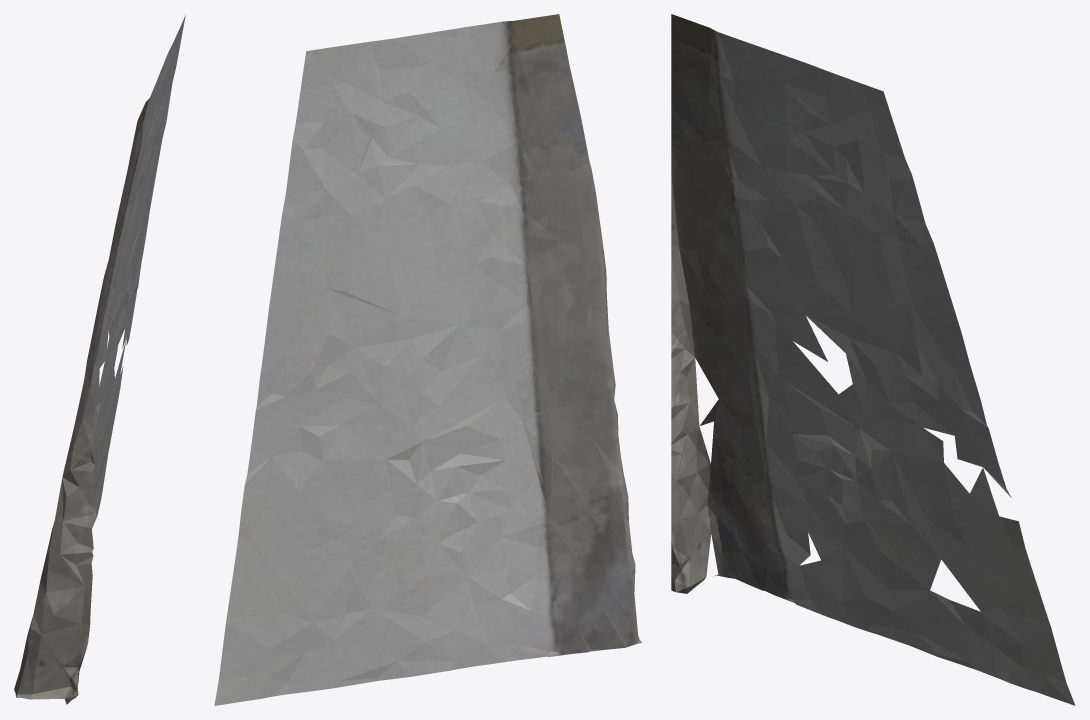
3 views of the same model, side by side, from view 1: azimuth 30°, elevation 25°; view 2: azimuth 150°, elevation 25°; view 3: azimuth 270°, elevation 25° (orthographic). The views are drawn at different scales.
Bounding box in the file's own units: 0.764 × 1.67 × 0.9978.
Materials: 2 (2 with a texture image).
